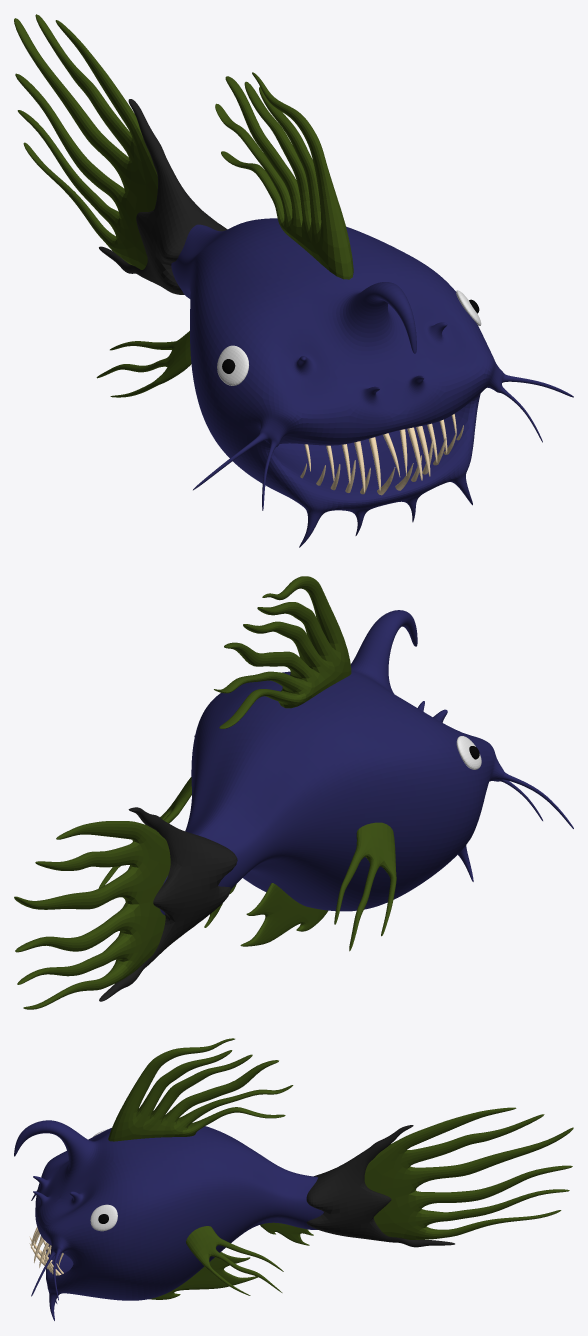
Rendered from souleater.fbx.
3 views of the same model, one above another, from view 1: azimuth 30°, elevation 25°; view 2: azimuth 150°, elevation 25°; view 3: azimuth 270°, elevation 25° (orthographic). The views are drawn at different scales.
Visible parts, largest first — view 1: Head, TailFin, HeadFin, TailFinStar, Teeth, SideFins, Eyes; view 2: Head, TailFin, HeadFin, TailFinStar, SideFins, BottomFin, Eyes; view 3: Head, TailFin, HeadFin, TailFinStar, SideFins, BottomFin, Eyes, Teeth, BellyFin.
Boxes of the visible parts, x1,y1,x2,y2 form: Head: (171, 218, 573, 547); TailFin: (14, 14, 157, 269); HeadFin: (215, 72, 353, 279); TailFinStar: (99, 99, 227, 294); Teeth: (300, 414, 463, 495); SideFins: (96, 331, 191, 397); Eyes: (217, 290, 481, 385); Head: (160, 610, 573, 914); TailFin: (14, 821, 170, 1009); HeadFin: (214, 576, 351, 728); TailFinStar: (99, 807, 237, 1001); SideFins: (98, 777, 396, 951); BottomFin: (240, 883, 327, 946); Eyes: (456, 736, 481, 769); Head: (14, 1120, 323, 1320); TailFin: (364, 1107, 573, 1239); HeadFin: (108, 1038, 293, 1141); TailFinStar: (306, 1125, 454, 1247); SideFins: (186, 1226, 283, 1295); BottomFin: (149, 1252, 257, 1299); Eyes: (90, 1129, 117, 1231); Teeth: (29, 1227, 63, 1275); BellyFin: (260, 1222, 313, 1245).
Bounding box in the file's own units: 259 × 242 × 473.
